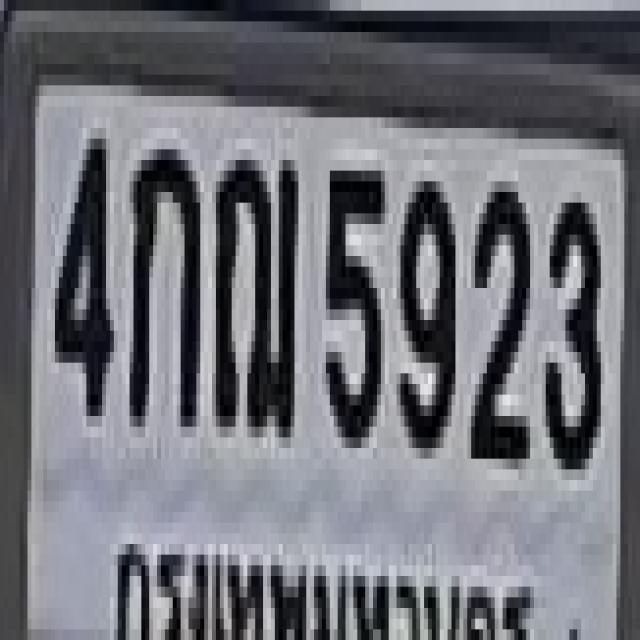-: (212, 149, 295, 427), (126, 139, 196, 416)
2: (467, 165, 526, 454)
3: (542, 192, 597, 459)
4: (51, 128, 110, 405)
5: (322, 160, 381, 437)
9: (396, 171, 452, 437)
